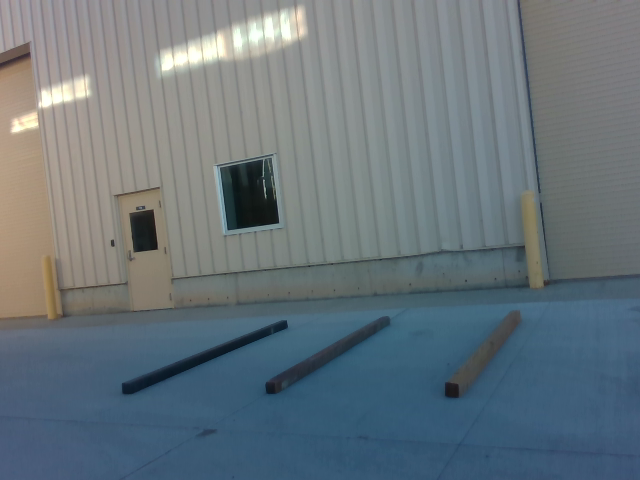dunnage: (113, 308, 528, 405)
